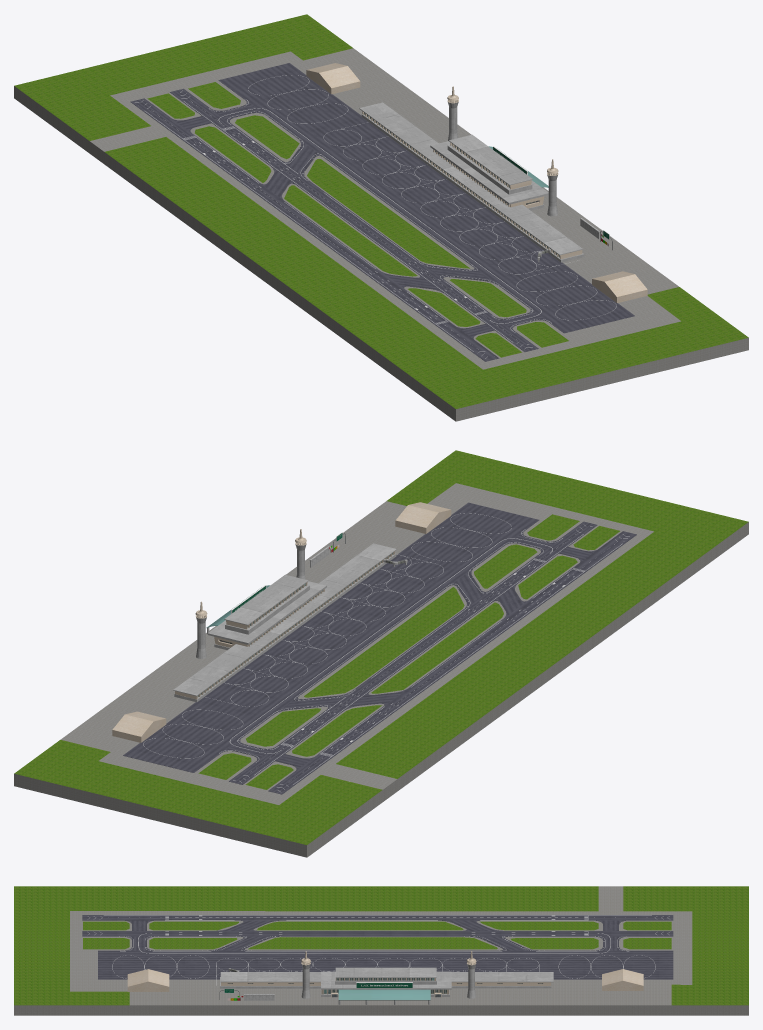
The model's file is airport.glb.
The picture shows the model from 3 angles, top to bottom: view 1: azimuth 30°, elevation 25°; view 2: azimuth 150°, elevation 25°; view 3: azimuth 270°, elevation 25°; orthographic projection. The views are drawn at different scales.
Visible parts, largest first — view 1: Grass1, Runway1, Tile1, AirPort, Runway_Line, warehouse1, warehouse3, Lines; view 2: Grass1, Runway1, Tile1, AirPort, Runway_Line, warehouse1, warehouse3, Lines; view 3: Grass1, Tile1, Runway1, AirPort, Runway_Line, warehouse1, warehouse3, Lines, Object_1_Airpot_0, Object_2_Airpot_0.
Boxes of the visible parts, x1,y1,x2,y2 form: Grass1: (14,14,748,408); Runway1: (130,63,634,361); Tile1: (14,48,748,421); AirPort: (359,102,584,262); Runway_Line: (135,90,551,358); warehouse1: (592,271,647,302); warehouse3: (306,63,360,94); Lines: (248,75,616,320); Grass1: (14,450,748,844); Runway1: (123,502,636,794); Tile1: (14,483,748,857); AirPort: (173,543,396,701); Runway_Line: (219,525,629,791); warehouse1: (395,502,451,533); warehouse3: (112,711,166,742); Lines: (143,513,511,758); Grass1: (14,886,748,1005); Tile1: (14,886,748,1015); Runway1: (82,915,673,979); AirPort: (220,967,553,1004); Runway_Line: (88,915,669,953); warehouse1: (127,969,169,991); warehouse3: (602,969,643,990); Lines: (112,955,655,985); Object_1_Airpot_0: (301,951,310,998); Object_2_Airpot_0: (466,951,476,998).
Bounding box in the file's own units: 17.46 × 3.83 × 45.58.
Materials: 4 (4 with a texture image).
